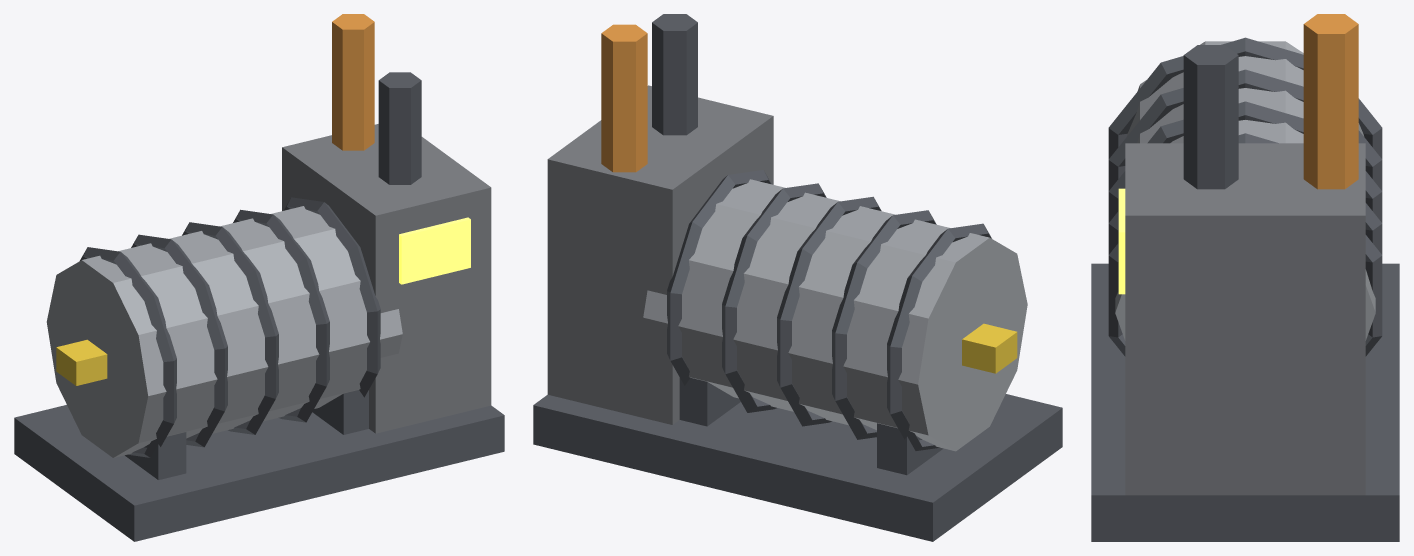
File: SM_Generator.glb
3 renders of one model, left to right at view 1: azimuth 30°, elevation 25°; view 2: azimuth 150°, elevation 25°; view 3: azimuth 270°, elevation 25°, orthographic. The views are drawn at different scales.
Parts seen in each view (by area): view 1: SM_Generator; view 2: SM_Generator; view 3: SM_Generator.
Part boxes in pixels (x1,y1,x2,y2): SM_Generator: (14, 14, 504, 541); SM_Generator: (533, 14, 1062, 541); SM_Generator: (1091, 14, 1399, 541).
Size of the model in its own units: 1.64 by 1.55 by 0.9.
